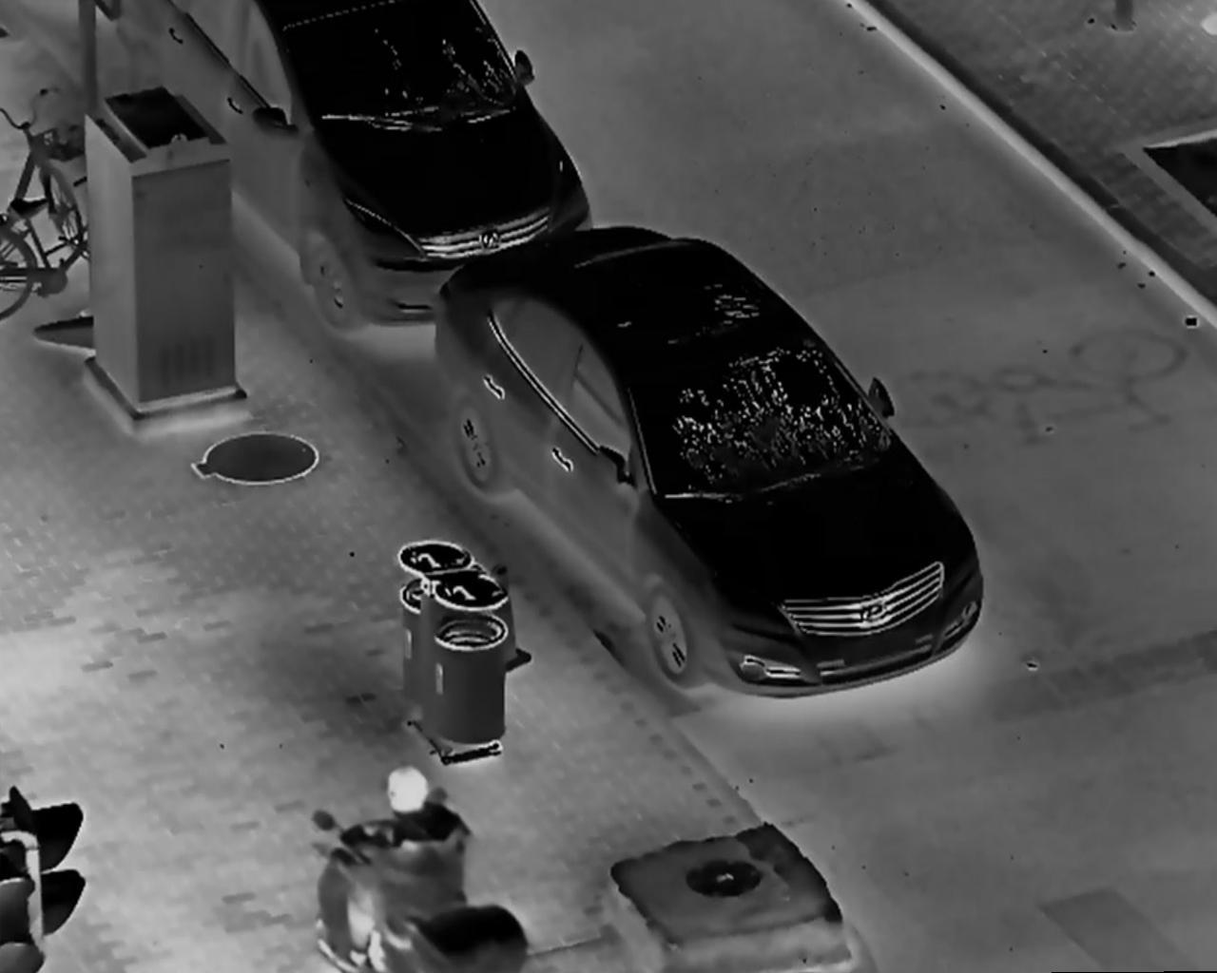person: (316, 768, 473, 973)
